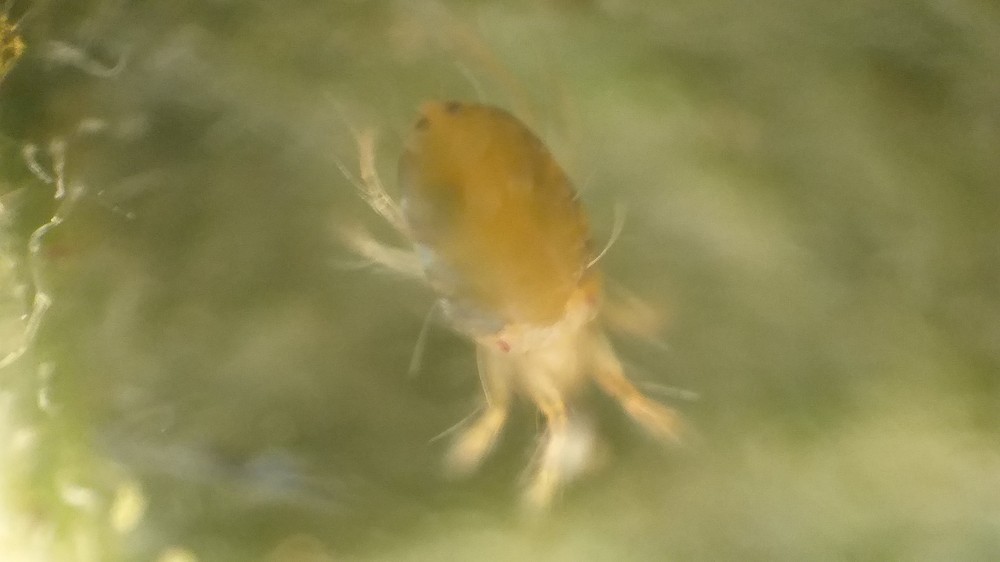Aracnido Rojo: (310, 47, 759, 523)
